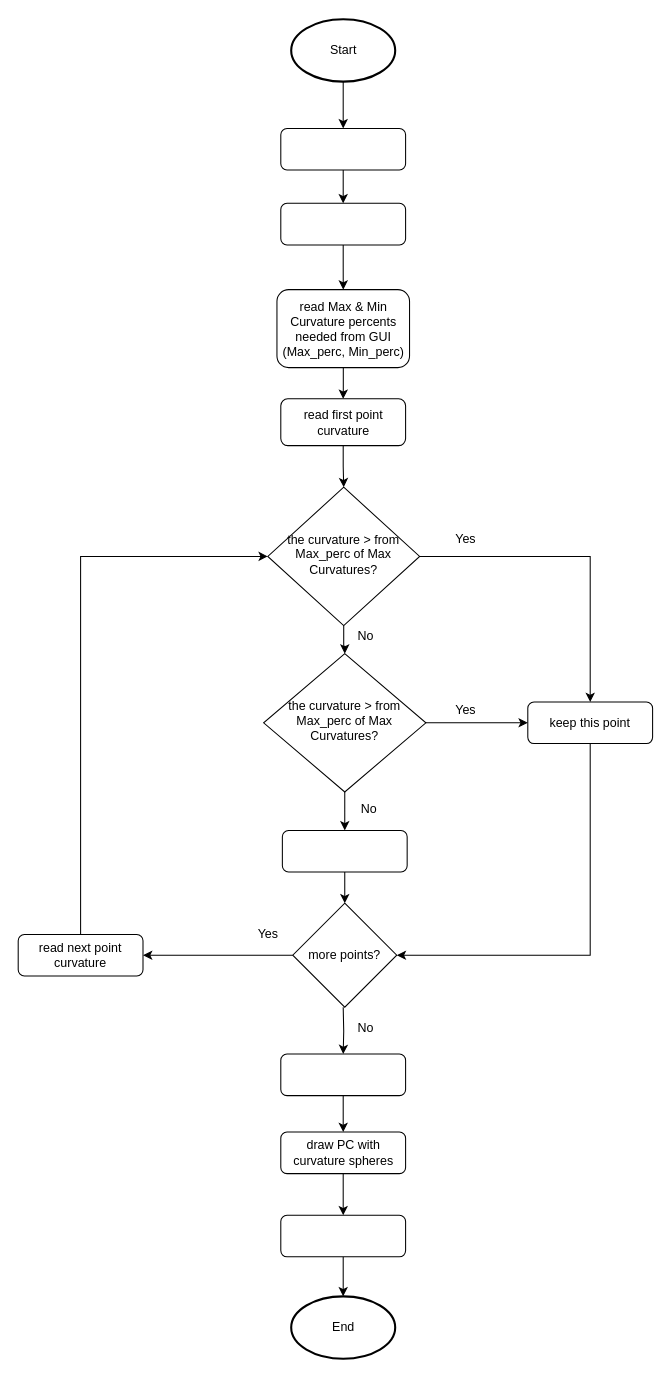
Image size: 671x1377. Some labels were removed from this diagram. Each missing label, with the centre of its shape:
"discard this point" belongs at (x=344, y=850).
"find Max & Min Curvatures" belongs at (x=343, y=223).
"read PC fie" belongs at (x=343, y=148).
"represent each point by a sphere" belongs at (x=343, y=1074).
"save the result" belongs at (x=343, y=1235).
